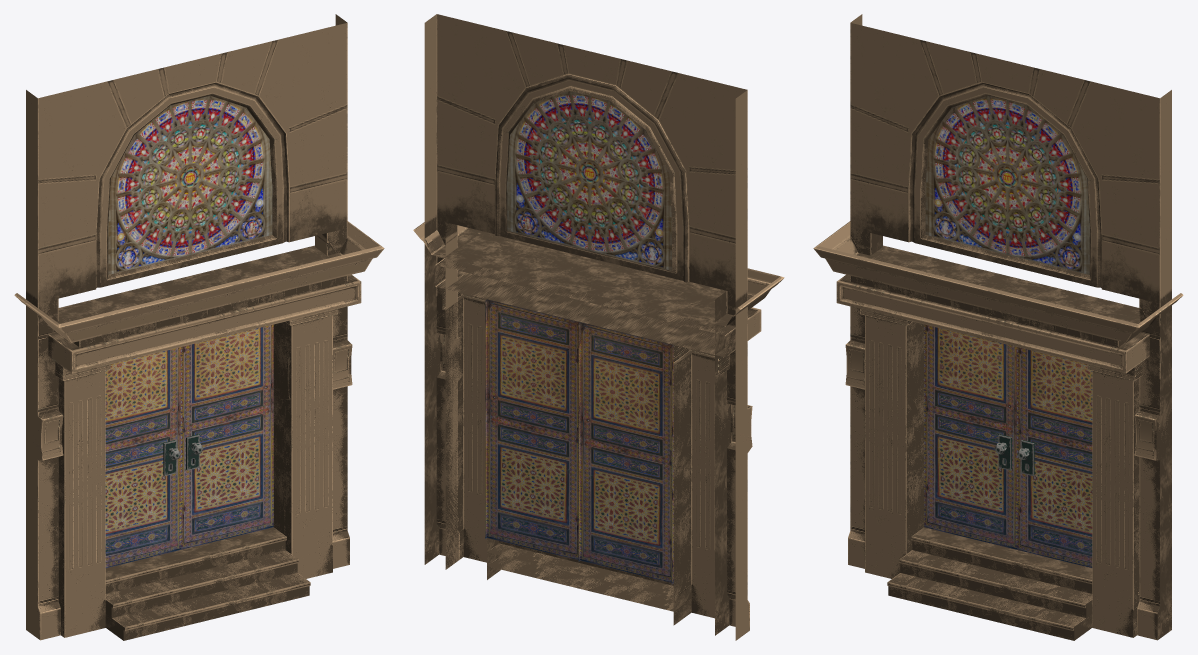
File: SM_Door_Big.fbx
3 renders of one model, left to right at view 1: azimuth 30°, elevation 25°; view 2: azimuth 150°, elevation 25°; view 3: azimuth 330°, elevation 25°, orthographic.
Parts seen in each view (by area): view 1: SM_Door_Big; view 2: SM_Door_Big; view 3: SM_Door_Big.
Part boxes in pixels (x1=…): SM_Door_Big: x1=14, y1=14, x2=384, y2=640; SM_Door_Big: x1=413, y1=14, x2=784, y2=640; SM_Door_Big: x1=813, y1=14, x2=1183, y2=640.
Size of the model in its own units: 316 by 500 by 74.47.
3 materials, 3 textured.
